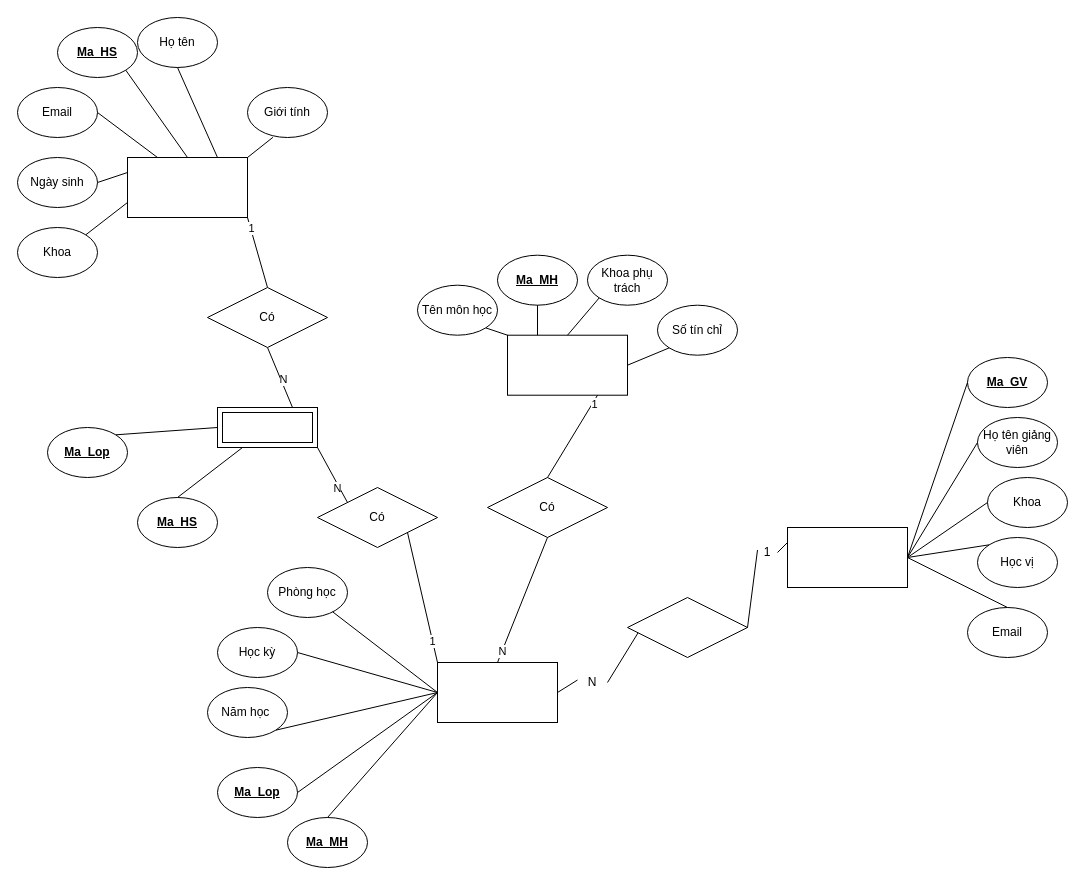
The diagram is 1085 pixels wide and 885 high, and some of its shapes have lost their labels. The centre of each missing label's shape, as x and y in pixels:
Dạy: the point at 687,627
Giảng viên: the point at 847,557
Học sinh: the point at 187,187
Lớp học phần: the point at 497,692
Môn học: the point at 567,364
Đăng ký: the point at 267,427
